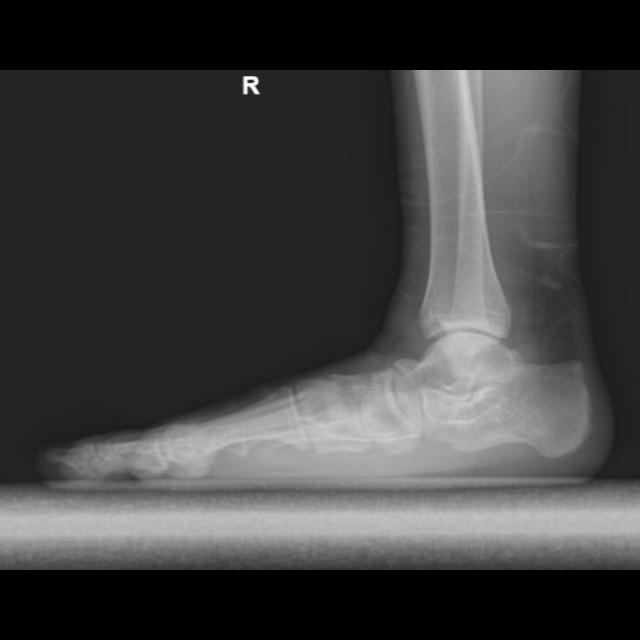a: (423, 362, 590, 457)
b: (364, 368, 416, 446)
c: (161, 386, 314, 462)
